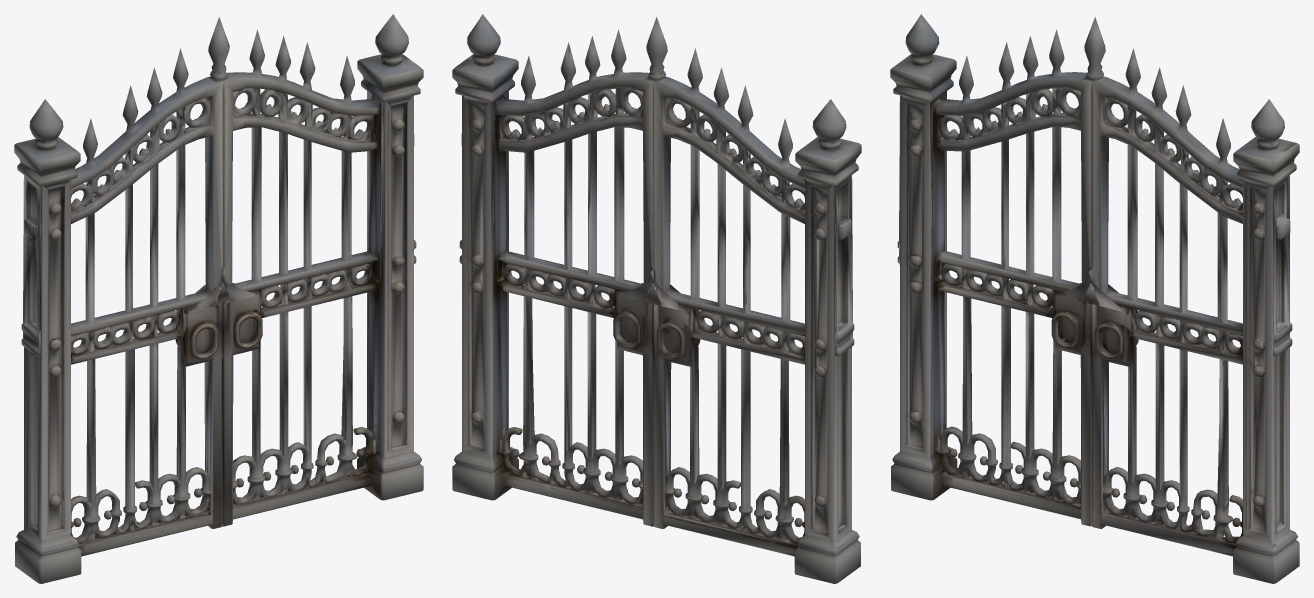
Rendered from Outdoor__iron_gate_realistic_style_b0256527_v2.cluster.glb.
3 views of the same model, side by side, from view 1: azimuth 30°, elevation 25°; view 2: azimuth 150°, elevation 25°; view 3: azimuth 330°, elevation 25° (orthographic).
Parts seen in each view (by area): view 1: texture_pbr_20250901; view 2: texture_pbr_20250901; view 3: texture_pbr_20250901.
Boxes of the visible parts, x1,y1,x2,y2 form: texture_pbr_20250901: [14, 14, 423, 583]; texture_pbr_20250901: [452, 14, 861, 583]; texture_pbr_20250901: [890, 14, 1299, 583].
Bounding box in the file's own units: 1.5 × 1.9 × 0.1758.
1 material, 1 textured.
